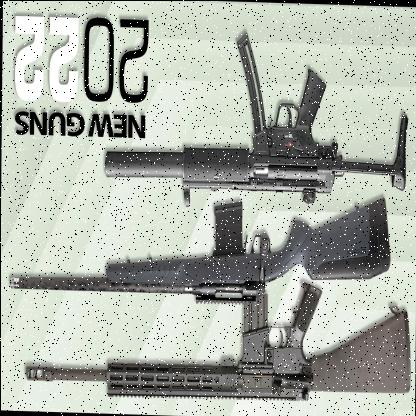rifle: (8, 193, 393, 310), (17, 296, 410, 410), (162, 63, 407, 208)
